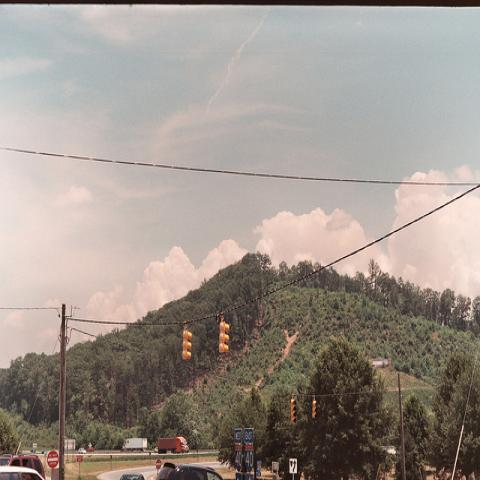car: (158, 461, 223, 474), (8, 454, 45, 475), (0, 464, 49, 479), (119, 473, 147, 479), (78, 448, 86, 454), (87, 446, 94, 452)
truck: (158, 437, 190, 454), (122, 438, 147, 452)
